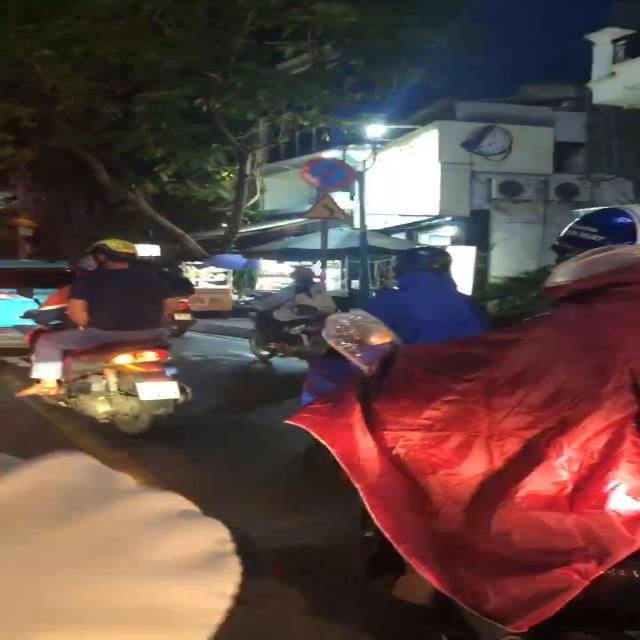Bien bao cho ngoat nguy hiem: (296, 193, 358, 221)
